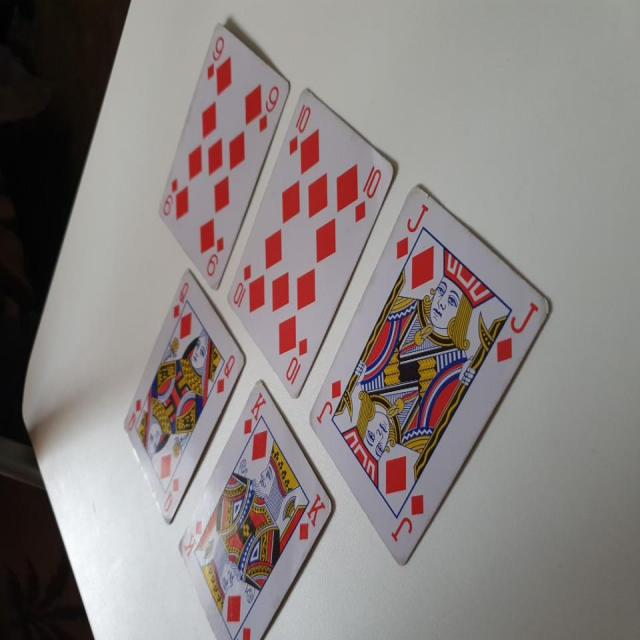10 Diamonds: (225, 86, 396, 401)
9 Diamonds: (155, 19, 290, 292)
J Diamonds: (307, 181, 552, 568)
K Diamonds: (175, 379, 333, 640)
Q Diamonds: (120, 268, 246, 526)
